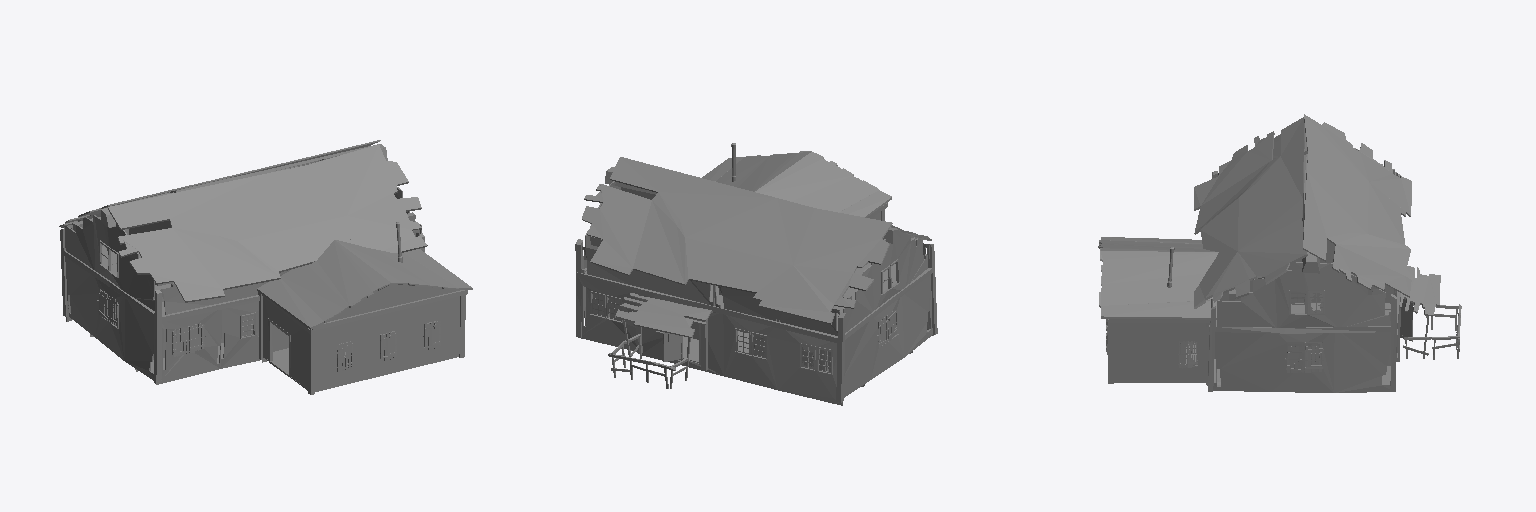
The model's file is house2.obj.
3 views of the same model, side by side, from view 1: azimuth 30°, elevation 25°; view 2: azimuth 150°, elevation 25°; view 3: azimuth 270°, elevation 25° (orthographic).
Parts seen in each view (by area): view 1: Mesh03, Mesh02, Mesh06, Mesh19, Mesh07, Mesh04; view 2: Mesh03, Mesh02, Mesh06, Mesh04; view 3: Mesh03, Mesh02, Mesh06, Mesh19.
Boxes of the visible parts, box(x1,y1,x2,y2) form: Mesh03: box(59, 140, 472, 329); Mesh02: box(64, 155, 459, 391); Mesh06: box(60, 144, 467, 394); Mesh19: box(98, 288, 440, 356); Mesh07: box(337, 331, 396, 371); Mesh04: box(102, 245, 345, 383); Mesh03: box(582, 151, 931, 337); Mesh02: box(577, 181, 933, 405); Mesh06: box(575, 167, 937, 402); Mesh04: box(586, 263, 927, 362); Mesh03: box(1098, 114, 1440, 319); Mesh02: box(1114, 134, 1397, 392); Mesh06: box(1106, 133, 1461, 391); Mesh19: box(1106, 325, 1323, 372).
Size of the model in its own units: 67.55 by 32.89 by 71.75.